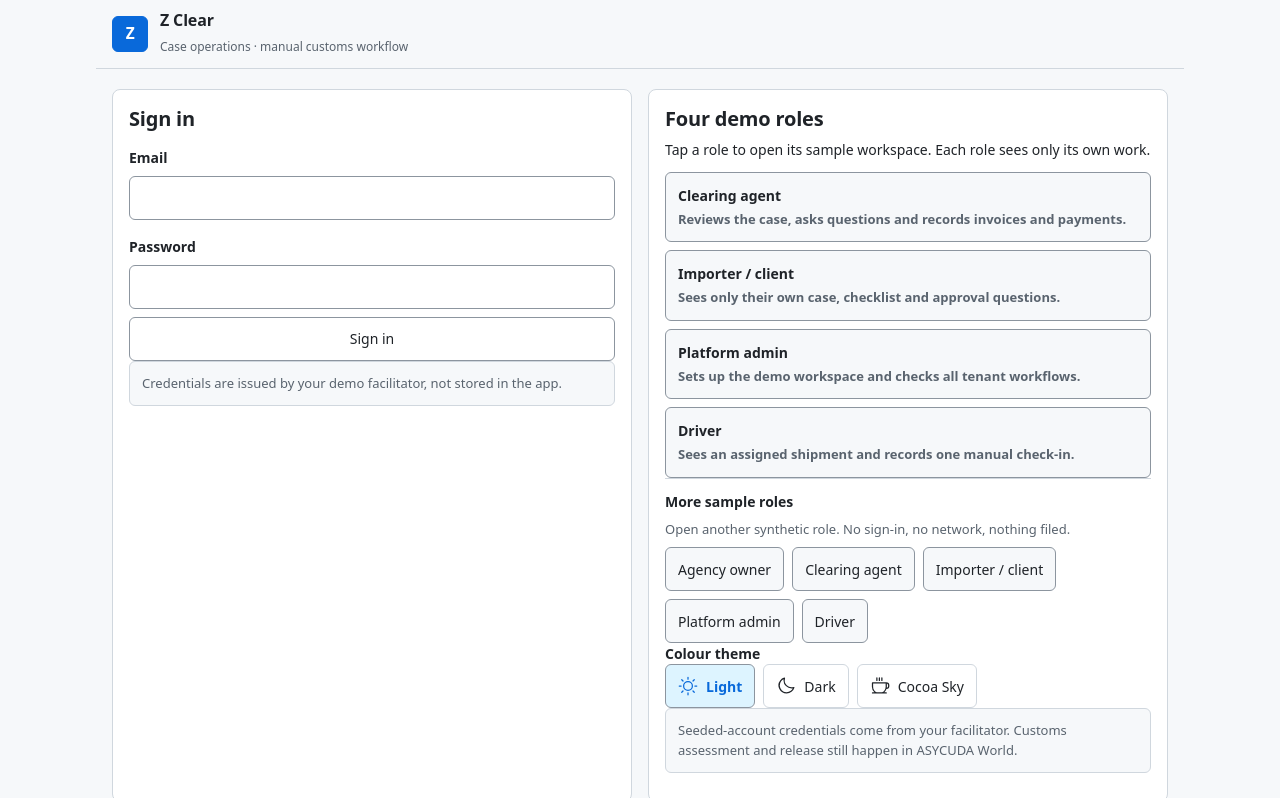
Test: App › records a one-tap manual stage change in the sample workspace
Click the button with test id "sample-login-agent_staff" at x=853, y=569, box [792, 547, 915, 591]
(page scrolled)
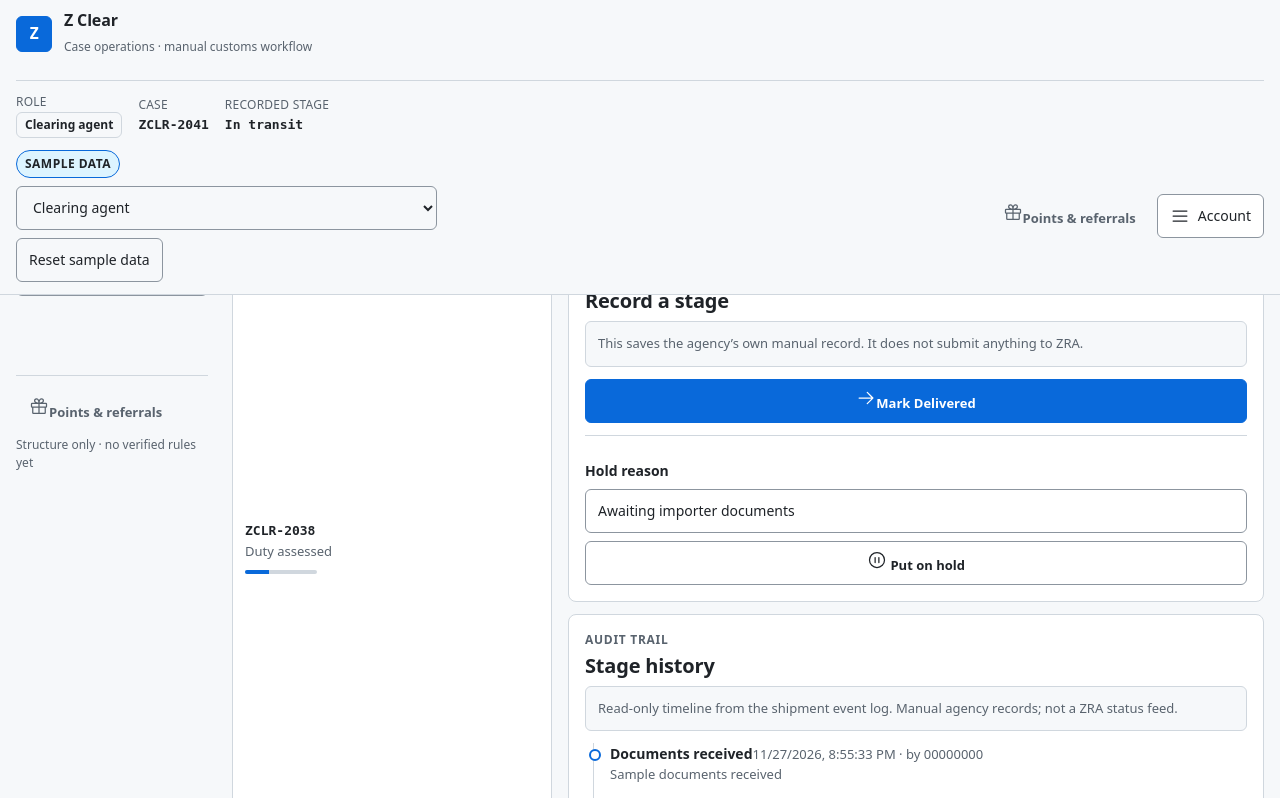
Click the button "Mark Delivered" at x=916, y=401, box [585, 379, 1247, 423]
(page scrolled)
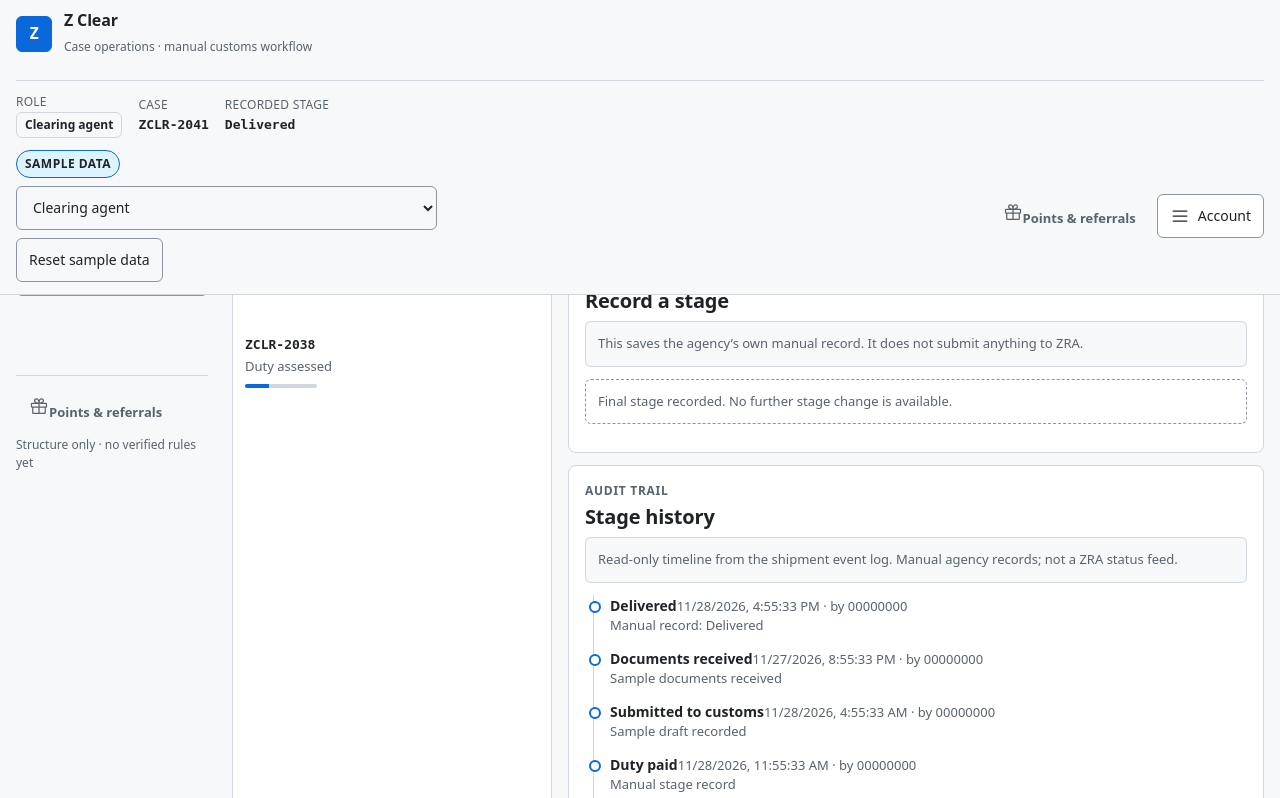
expect the text "Manual record: Delivered" is shown: met, box [610, 616, 764, 634]
